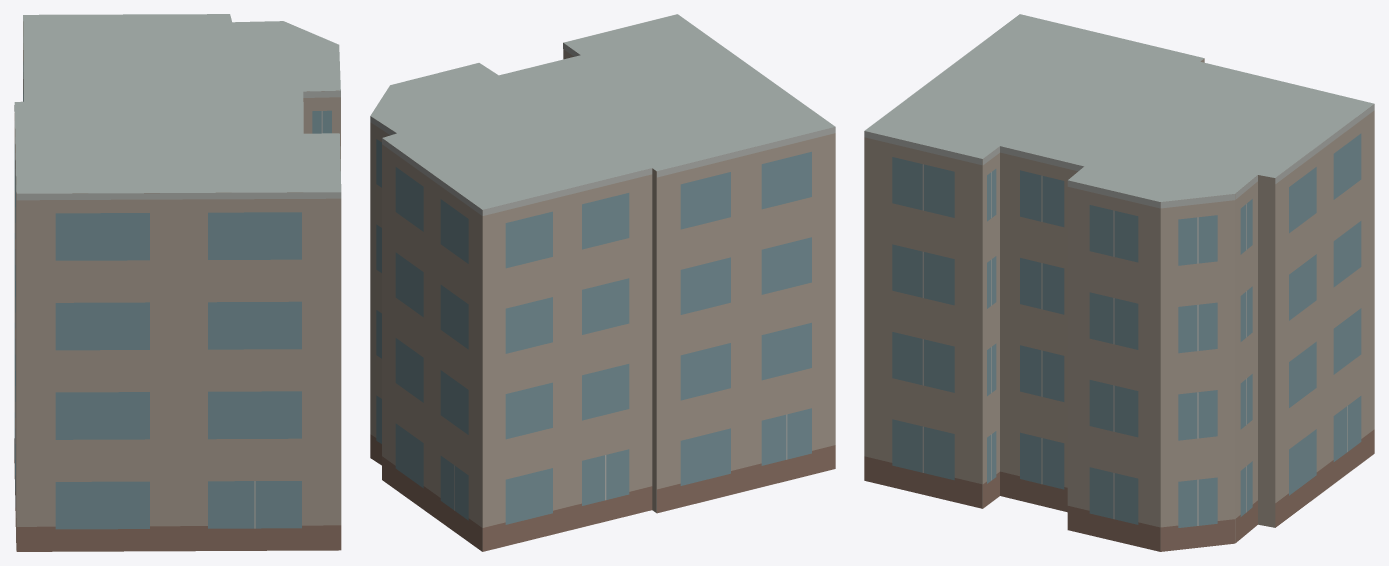
File: survey-upis-32722749.glb
3 views of the same model, side by side, from view 1: azimuth 30°, elevation 25°; view 2: azimuth 150°, elevation 25°; view 3: azimuth 270°, elevation 25° (orthographic). The views are drawn at different scales.
Parts seen in each view (by area): view 1: survey-upis-32722749.tmp; view 2: survey-upis-32722749.tmp; view 3: survey-upis-32722749.tmp.
Boxes of the visible parts, <box> form: survey-upis-32722749.tmp: <box>14,14,341,551</box>; survey-upis-32722749.tmp: <box>370,14,835,551</box>; survey-upis-32722749.tmp: <box>864,14,1374,551</box>.
Size of the model in its own units: 15.41 by 13.35 by 17.66.
